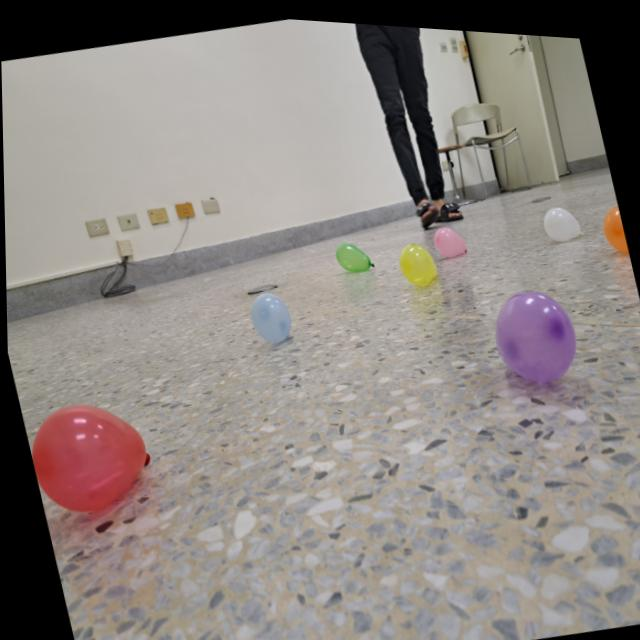other: (483, 271, 585, 385), (245, 285, 294, 346), (536, 191, 586, 238), (394, 233, 440, 283), (427, 216, 468, 255), (597, 195, 627, 247), (332, 232, 373, 270)
red: (19, 386, 160, 527)
